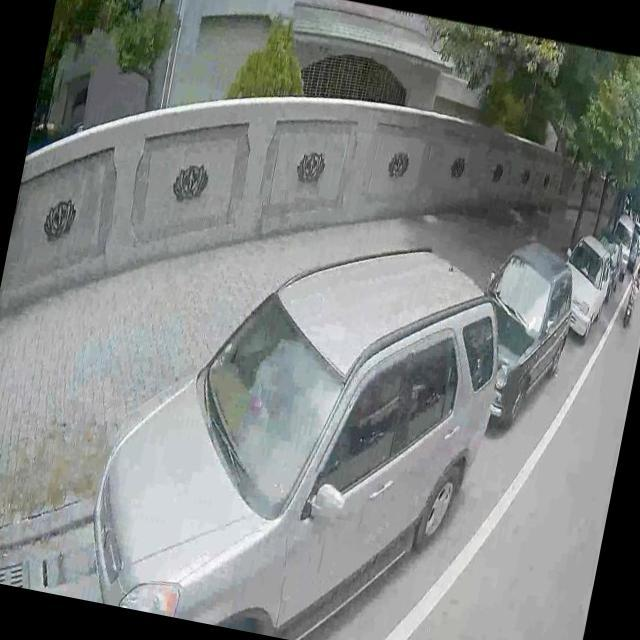person: (630, 263, 640, 289)
